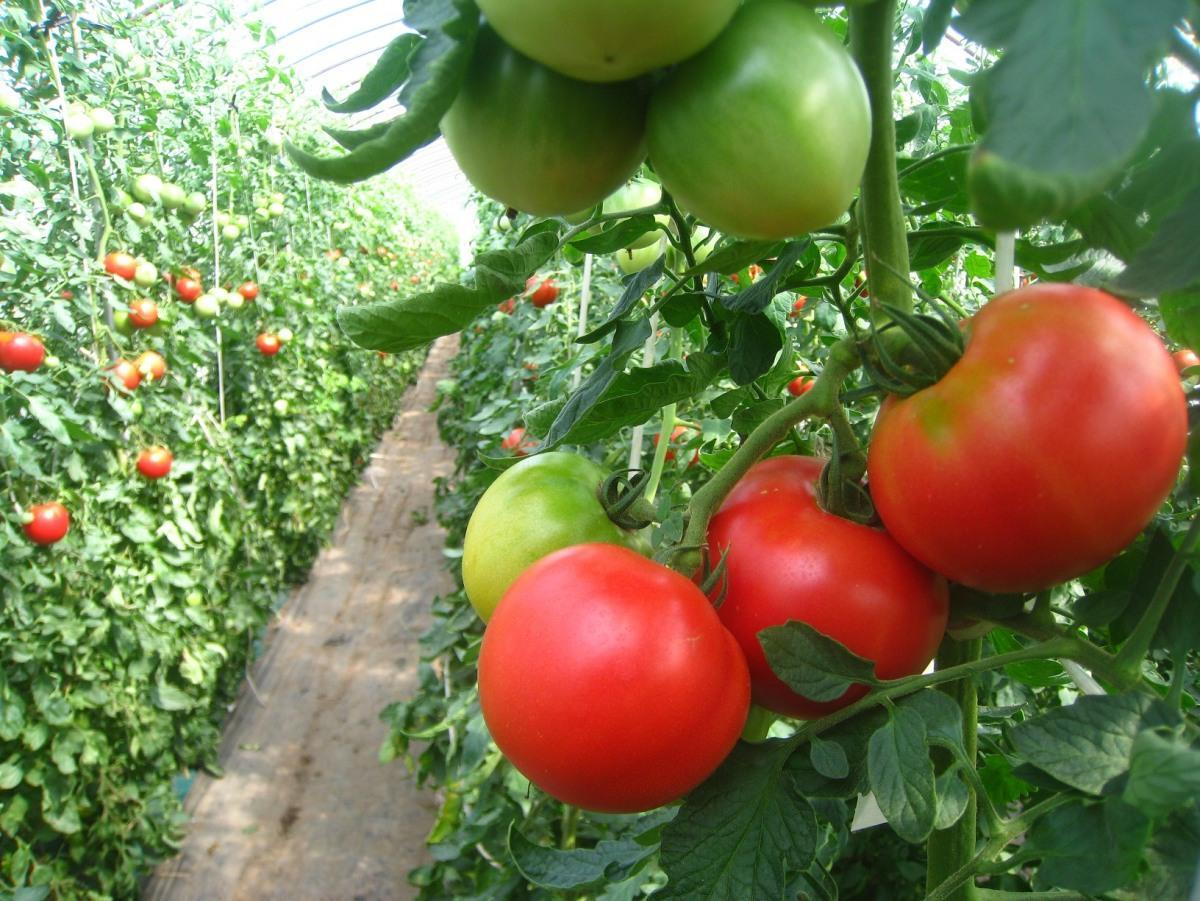stems: (824, 400, 868, 511), (881, 325, 959, 387), (670, 505, 717, 577)
tomato: (863, 278, 1191, 596), (476, 542, 753, 815), (692, 453, 949, 719), (641, 1, 875, 242), (432, 19, 652, 215), (464, 452, 656, 625), (470, 1, 744, 85)
